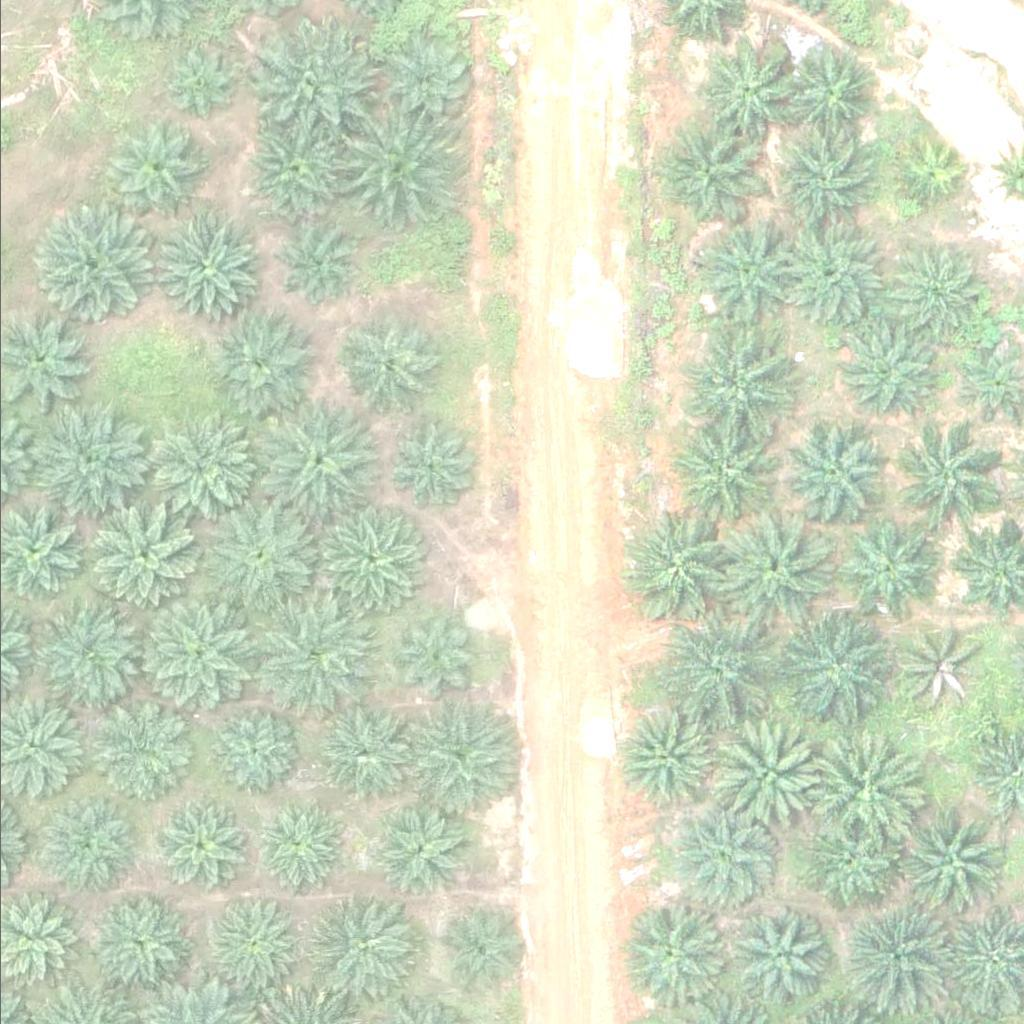Kelapa_Sawit: (136, 600, 250, 713), (31, 204, 145, 317), (616, 901, 730, 1014), (252, 600, 365, 713), (82, 498, 195, 611), (311, 498, 424, 611), (141, 412, 254, 525), (304, 883, 417, 996), (838, 900, 951, 1013), (617, 512, 730, 625), (776, 217, 889, 330), (688, 214, 801, 327), (649, 116, 762, 229), (32, 600, 146, 712), (204, 497, 318, 609), (409, 700, 523, 812), (895, 424, 1009, 536), (678, 322, 792, 434), (262, 410, 375, 522), (26, 407, 139, 519), (146, 215, 259, 327), (333, 112, 446, 224), (254, 22, 367, 134), (26, 783, 139, 895), (79, 690, 192, 802), (894, 805, 1007, 917), (811, 728, 924, 840), (713, 715, 826, 827), (658, 617, 771, 729), (779, 613, 892, 725), (717, 511, 830, 623), (660, 412, 773, 524), (380, 416, 481, 516), (207, 311, 308, 411), (247, 118, 348, 218), (380, 24, 481, 124), (86, 897, 187, 997), (149, 798, 250, 898), (310, 702, 411, 802), (720, 906, 821, 1006), (676, 807, 777, 907), (783, 419, 884, 519), (832, 319, 933, 419), (766, 127, 867, 227), (775, 42, 876, 142), (331, 315, 431, 415), (106, 119, 206, 219), (252, 794, 352, 894), (376, 801, 476, 901), (614, 706, 714, 806), (842, 517, 942, 617), (885, 242, 985, 342), (696, 37, 796, 137), (438, 905, 526, 993), (210, 898, 298, 986), (805, 817, 893, 905), (390, 617, 478, 704), (269, 224, 357, 311), (152, 37, 240, 124), (205, 712, 293, 799), (892, 627, 980, 714), (887, 135, 962, 210)
